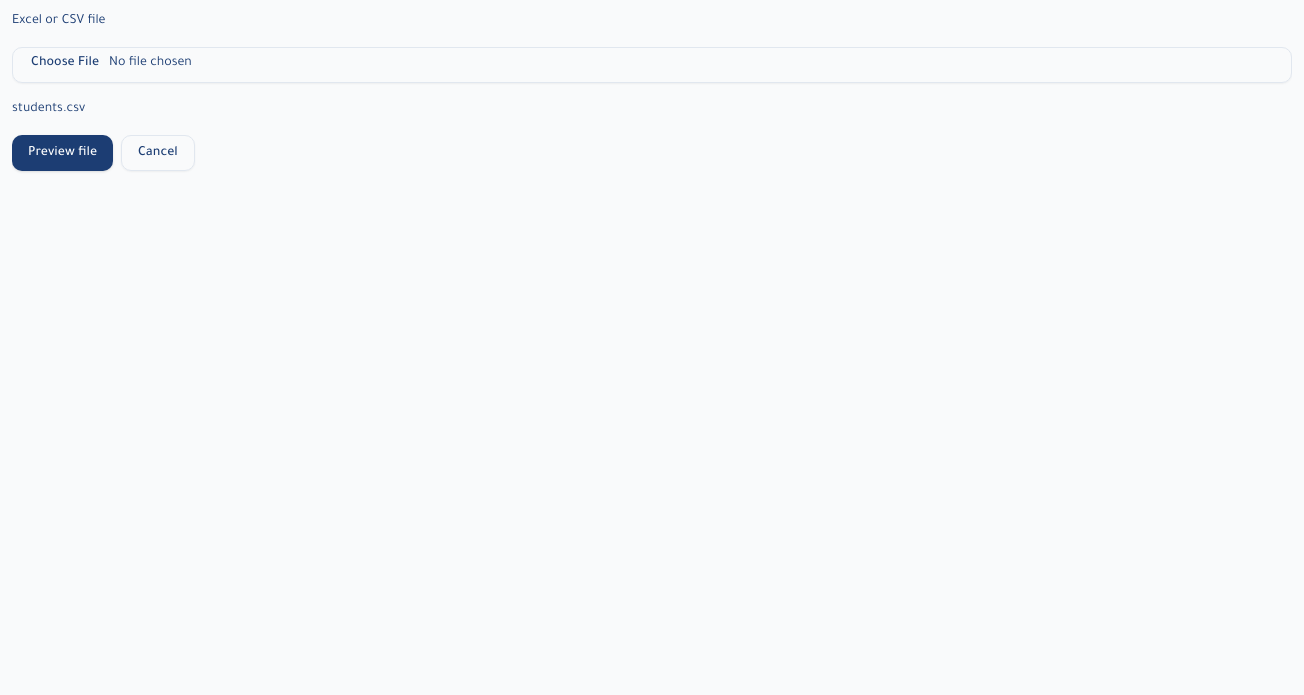
Scenario: mandatory external import review › preview does not import; explicit acknowledgement commits only the server draft and delivers actual results
This screenshot has width=1304, height=695.
Earlier steps of the test are not shown.
Later steps or results of the test are not shown.
Click the button "Preview file": point(63, 153) top-left (12, 135), bottom-right (113, 171)
(page scrolled)
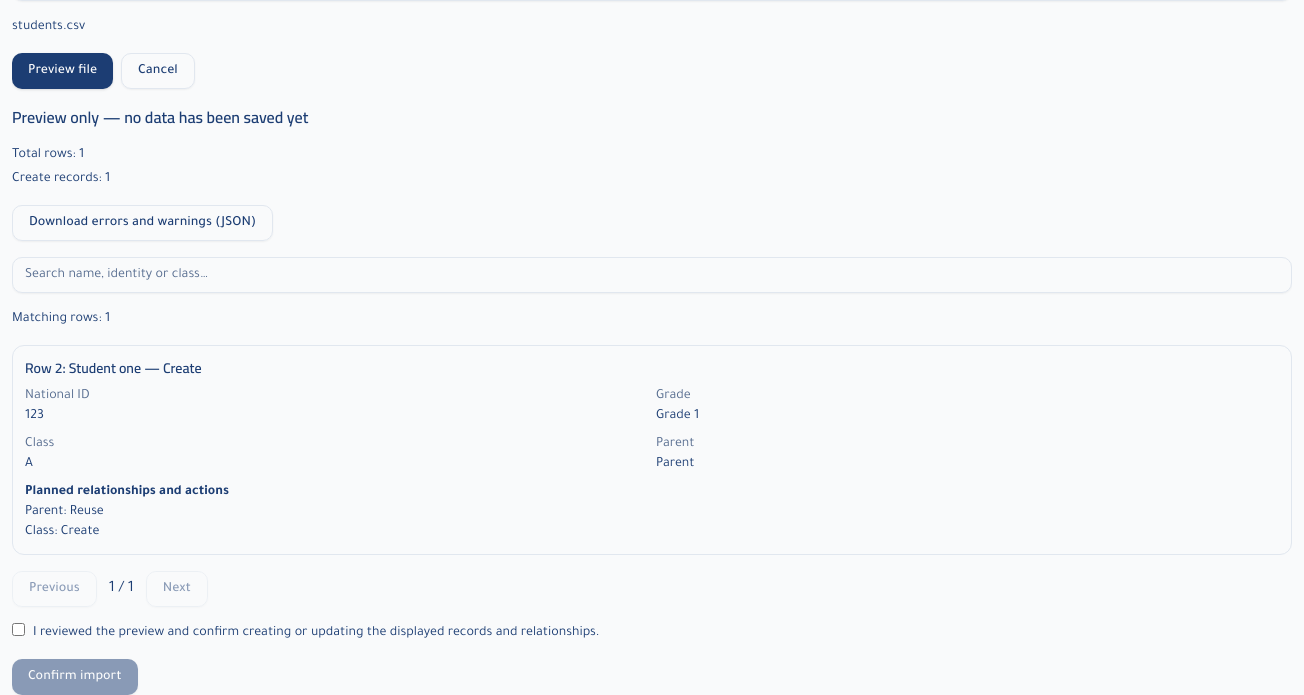
Expected: the text "students.csv" is shown, top-left (12, 20), bottom-right (85, 34)
Now the heading "Preview only — no data has been saved yet" is shown, box top-left (12, 102), bottom-right (308, 132)
Now the button "Confirm import" is disabled, box top-left (12, 659), bottom-right (138, 694)
